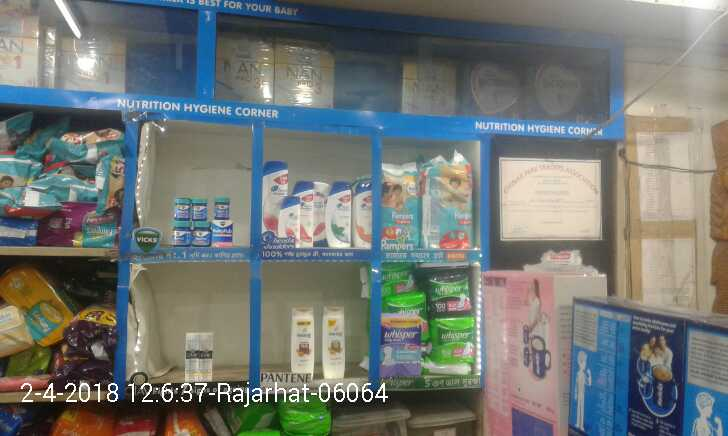vicks: (173, 195, 232, 246)
